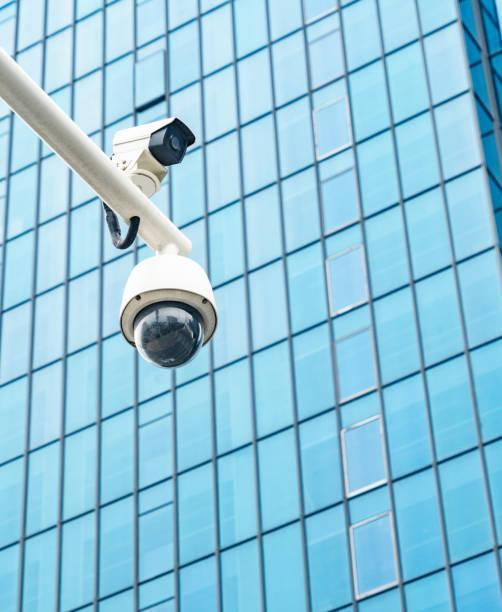camera: (100, 245, 233, 380), (90, 105, 208, 188)
